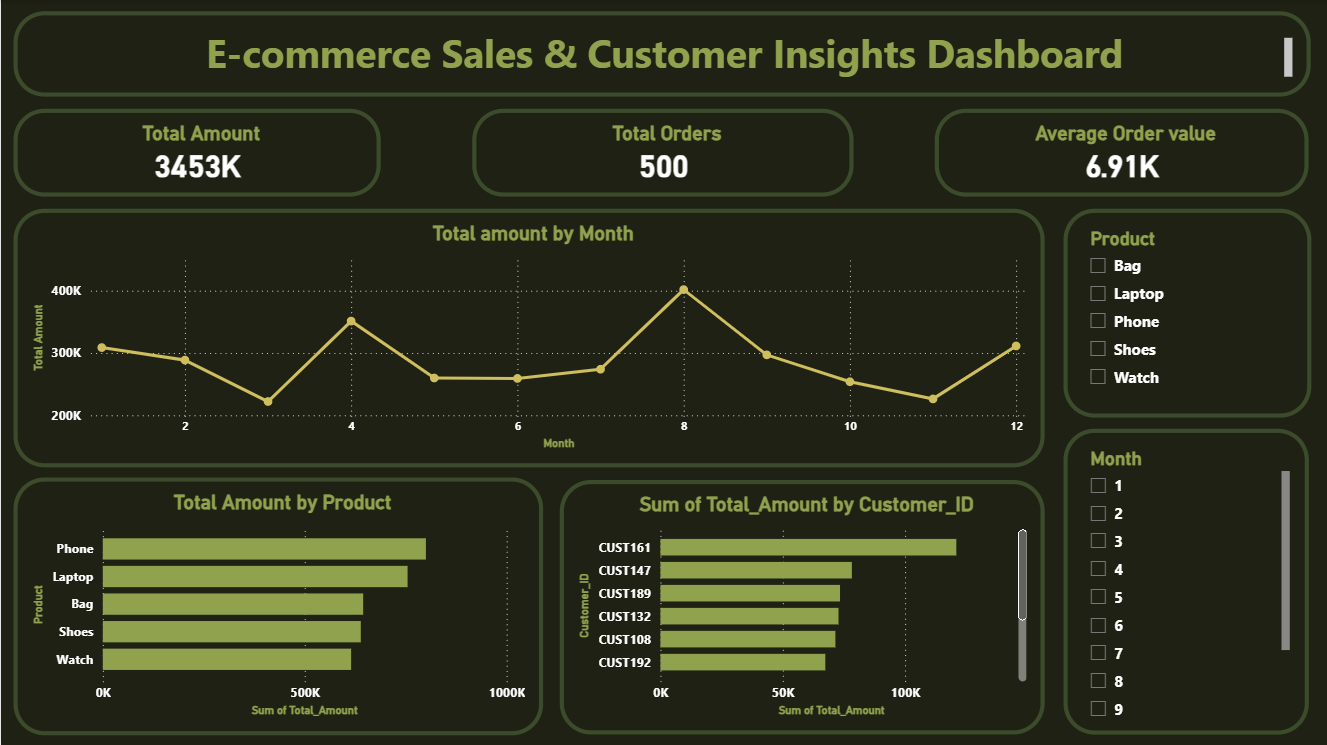

Layout of this report page (visuals, bound fields, positions):
{"tool":"powerbi","page":{"name":"Page 1","canvas":[1280,720],"ordinal":0},"visuals":[{"type":"card","title":"Total Amount","fields":{"Values":["Sum(ecommerce_updated.Total_Amount)"]},"box":[12.1,105,354.7,84.5],"z":0},{"type":"card","title":"Total Orders","fields":{"Values":["Count(ecommerce_updated.Order_ID)"]},"box":[454.8,105,368,84.5],"z":1000},{"type":"card","title":"Average Order value","fields":{"Values":["ecommerce_updated.AOV"]},"box":[901.2,105,360.7,84.5],"z":2000},{"type":"lineChart","title":"Total amount by Month","fields":{"Category":["ecommerce_updated.Month"],"Y":["Sum(ecommerce_updated.Total_Amount)"]},"box":[12.1,201.5,995.3,249.7],"z":2001},{"type":"barChart","title":"Total Amount by Product","fields":{"Category":["ecommerce_updated.Product"],"Y":["Sum(ecommerce_updated.Total_Amount)"]},"box":[12.1,460.9,511.5,248.5],"z":2002},{"type":"barChart","fields":{"Category":["ecommerce_updated.Customer_ID"],"Y":["Sum(ecommerce_updated.Total_Amount)"]},"box":[539.3,463.5,468.3,245.8],"z":2003},{"type":"slicer","fields":{"Values":["ecommerce_updated.Month"]},"box":[1025.5,413.8,236.5,295.6],"z":2004},{"type":"slicer","fields":{"Values":["ecommerce_updated.Product"]},"box":[1025.5,201.5,238.9,201.5],"z":2005},{"type":"textbox","box":[12.1,10.9,1252.3,82],"z":2006}]}

Visuals, with their boxes in screenshot pixels (x1, y1, x2, y2), scaled from the page's 1280x720 canvas onto the 1327x745 screenshot:
"Total Amount" card: 13,109,380,196
"Total Orders" card: 471,109,853,196
"Average Order value" card: 934,109,1308,196
"Total amount by Month" lineChart: 13,208,1044,467
"Total Amount by Product" barChart: 13,477,543,734
barChart - ecommerce_updated.Customer_ID x Sum(ecommerce_updated.Total_Amount): 559,480,1045,734
slicer - ecommerce_updated.Month: 1063,428,1308,734
slicer - ecommerce_updated.Product: 1063,208,1311,417
textbox: 13,11,1311,96
